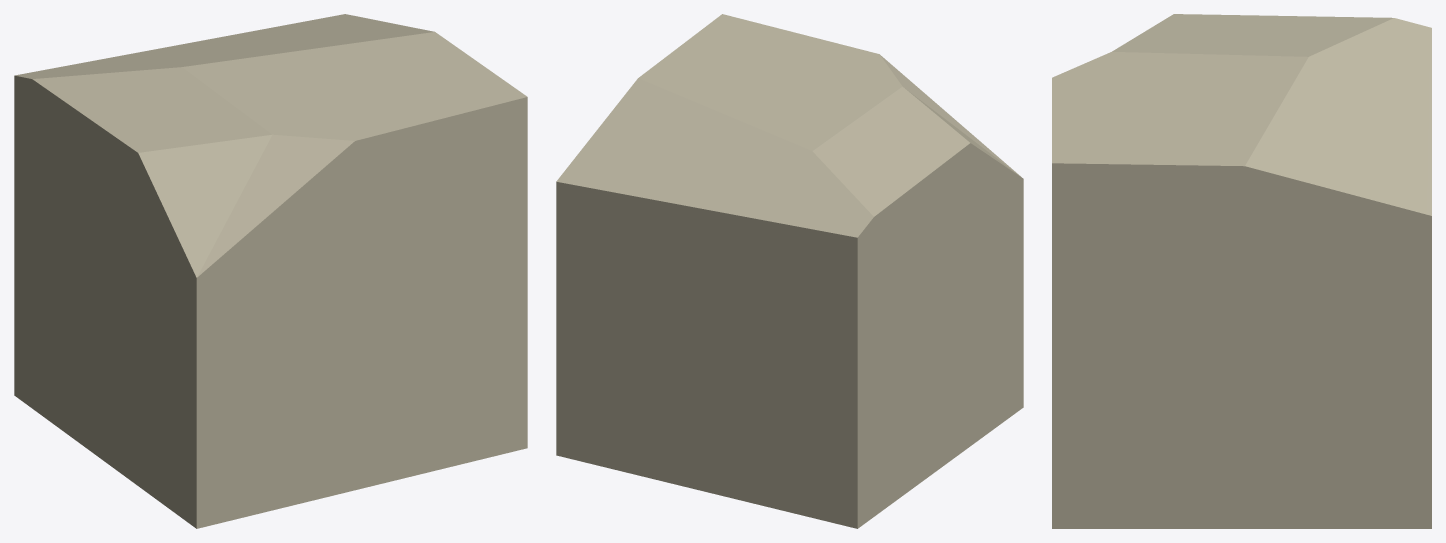
The model's file is rock-square-m-10.glb.
3 views of the same model, side by side, from view 1: azimuth 30°, elevation 25°; view 2: azimuth 150°, elevation 25°; view 3: azimuth 270°, elevation 25° (orthographic). The views are drawn at different scales.
Parts seen in each view (by area): view 1: Rock_Square_m_10; view 2: Rock_Square_m_10; view 3: Rock_Square_m_10.
Boxes of the visible parts, box(x1,y1,x2,y2) form: Rock_Square_m_10: box(14, 14, 527, 528); Rock_Square_m_10: box(556, 14, 1023, 528); Rock_Square_m_10: box(1052, 14, 1431, 528).
Bounding box in the file's own units: 0.3952 × 0.4008 × 0.3773.
Materials: 1 (1 with a texture image).
